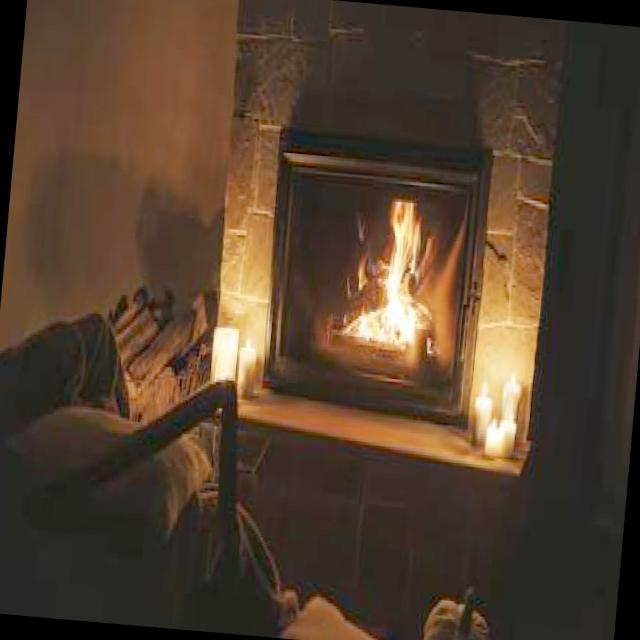Fire_Save: (321, 188, 466, 382)
